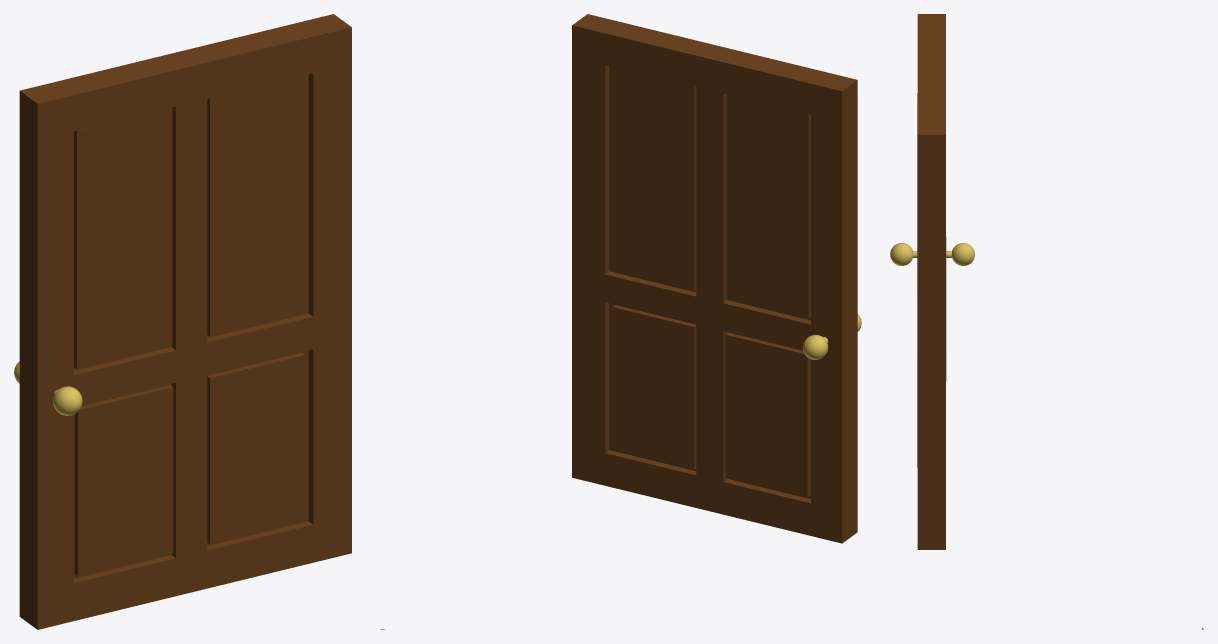
The model's file is Door.fbx.
3 views of the same model, side by side, from view 1: azimuth 30°, elevation 25°; view 2: azimuth 150°, elevation 25°; view 3: azimuth 270°, elevation 25° (orthographic). The views are drawn at different scales.
Parts seen in each view (by area): view 1: group1_pasted__pCube2; view 2: group1_pasted__pCube2; view 3: group1_pasted__pCube2.
Boxes of the visible parts, bbox=[...] form: group1_pasted__pCube2: bbox=[14, 14, 351, 629]; group1_pasted__pCube2: bbox=[572, 14, 861, 543]; group1_pasted__pCube2: bbox=[890, 14, 974, 549].
Bounding box in the file's own units: 5.96 × 9.09 × 5.48.
